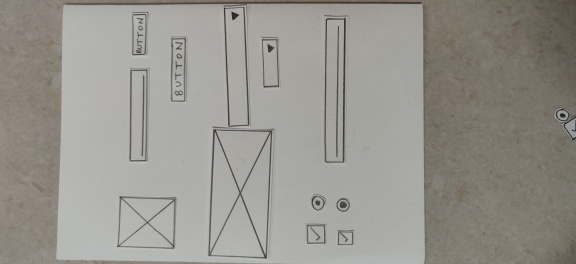button: (167, 34, 189, 107), (129, 10, 150, 58)
checkbox: (304, 221, 329, 247), (334, 227, 356, 249)
dropdown: (221, 4, 253, 128), (259, 33, 282, 91)
img: (205, 125, 276, 261), (115, 192, 180, 254)
radio: (308, 192, 327, 213), (334, 196, 352, 214)
text: (319, 14, 349, 166), (126, 65, 153, 167)
